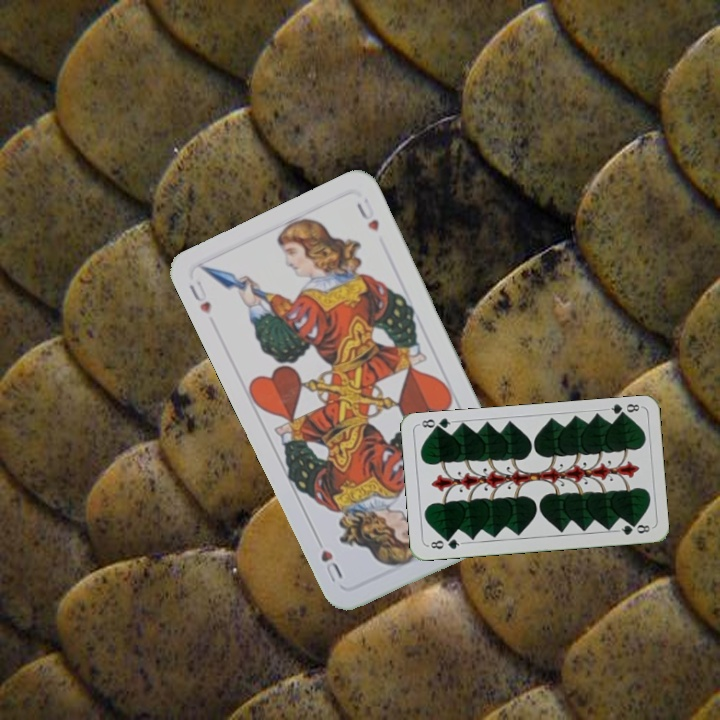G8: (603, 400, 643, 420), (424, 534, 465, 552)
HU: (184, 276, 214, 317)
